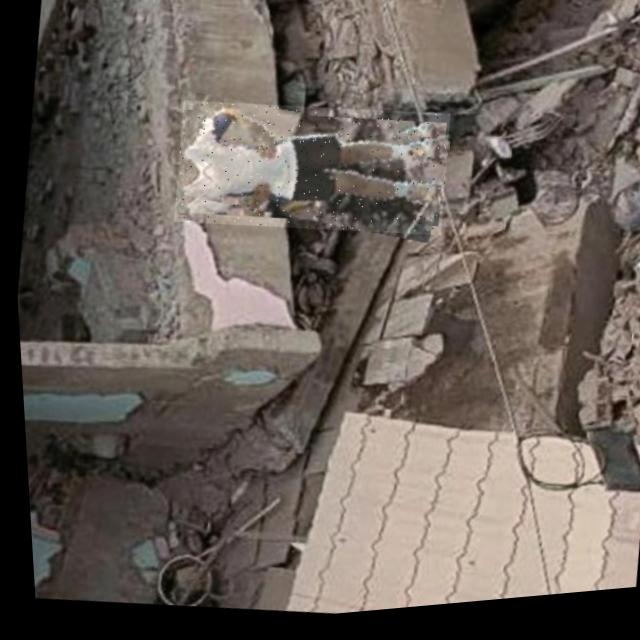Person in Rubble: (166, 84, 454, 261)
